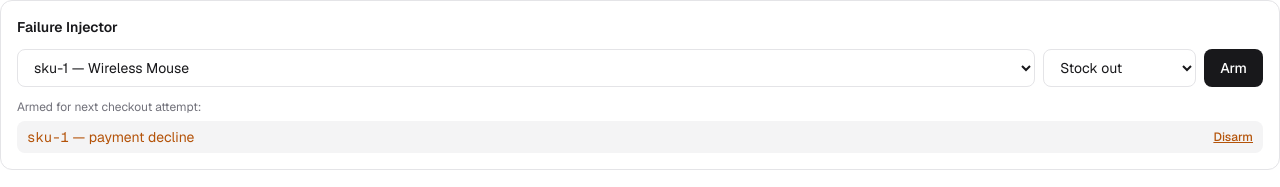
Scenario: FailureTrigger › disarms an armed failure
Click the button "Disarm".
click(1233, 137)  # box [1213, 129, 1253, 145]
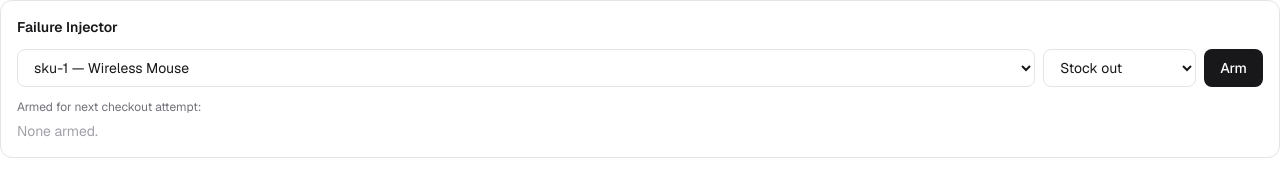
Now the text "None armed." is shown, box [17, 122, 98, 140]
